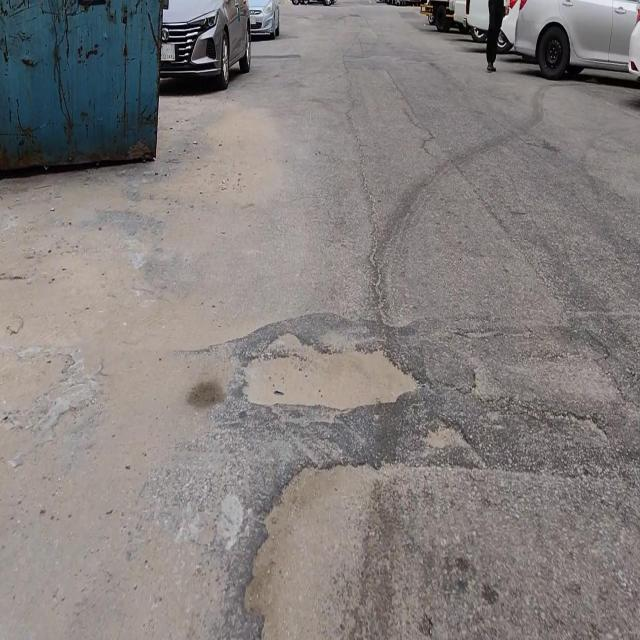Pothole: (239, 455, 398, 640), (237, 327, 425, 411)
